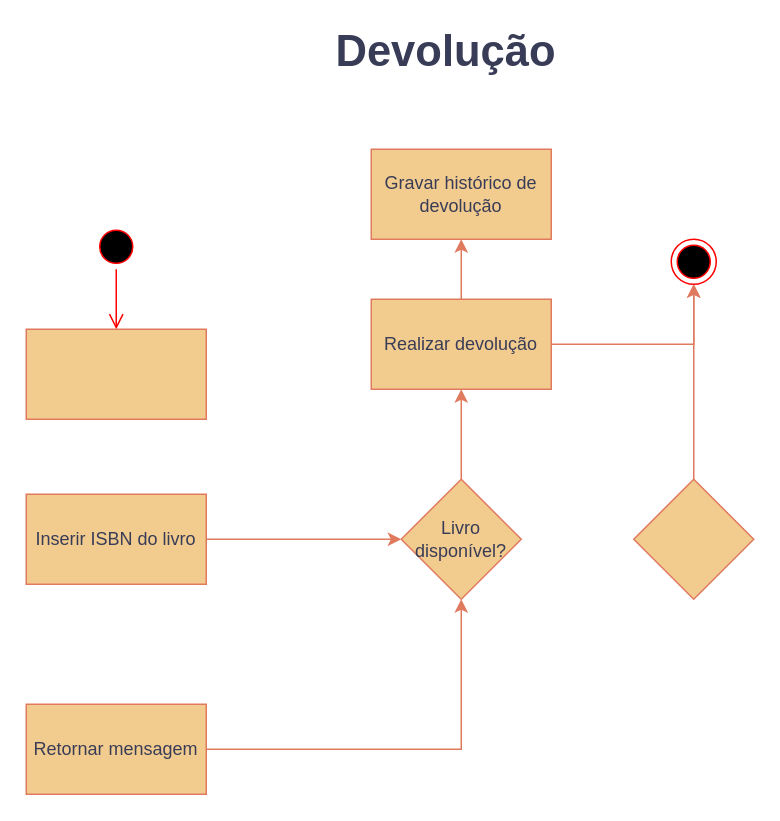
Image size: 780x821. Some labels were removed from this diagram. Here are the shapes that lost their labels. From the top down, the centre of each, then its label:
At (x=115, y=373): "Escolher opção de devolução no sistema".
At (x=693, y=538): "Testar novamente?".
